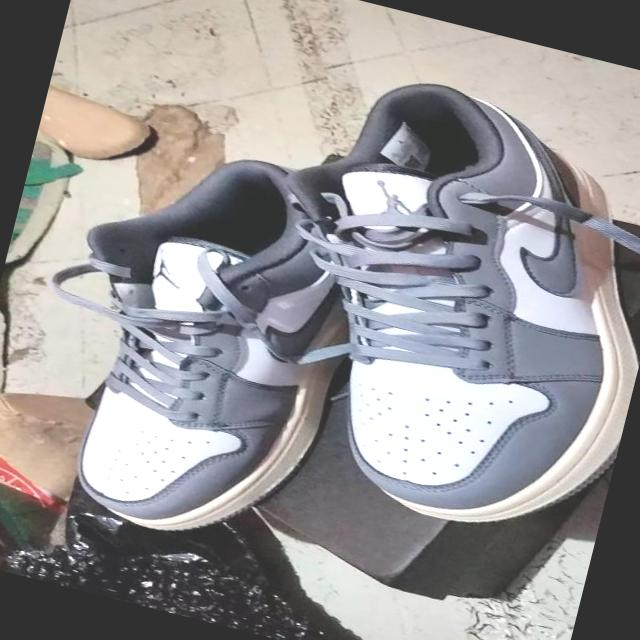nike_fake_jordan: (259, 63, 640, 556), (14, 123, 384, 566)
